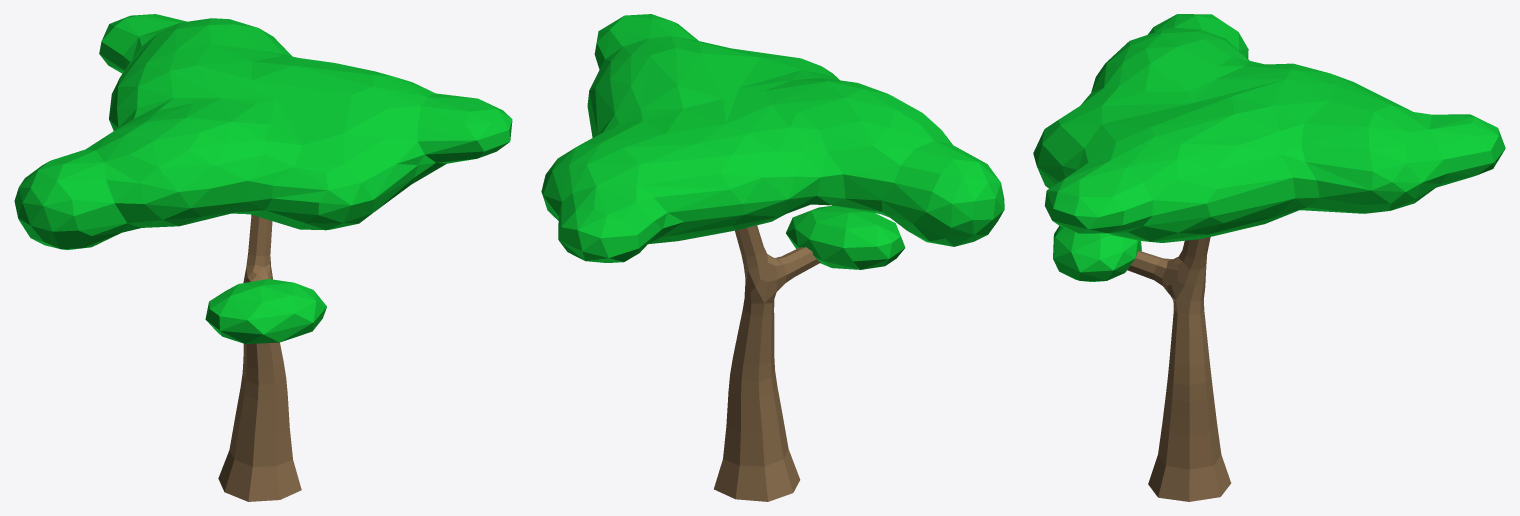
Rendered from petitArbre.glb.
3 renders of one model, left to right at view 1: azimuth 30°, elevation 25°; view 2: azimuth 150°, elevation 25°; view 3: azimuth 270°, elevation 25°, orthographic. The views are drawn at different scales.
Parts seen in each view (by area): view 1: Mball.013, Cube; view 2: Mball.013, Cube; view 3: Mball.013, Cube.
Boxes of the visible parts, x1,y1,x2,y2 form: Mball.013: (14,14,512,344); Cube: (218,215,301,501); Mball.013: (541,14,1004,269); Cube: (714,225,820,501); Mball.013: (1033,14,1505,281); Cube: (1127,237,1231,501).
Bounding box in the file's own units: 1271 × 1091 × 1172.
